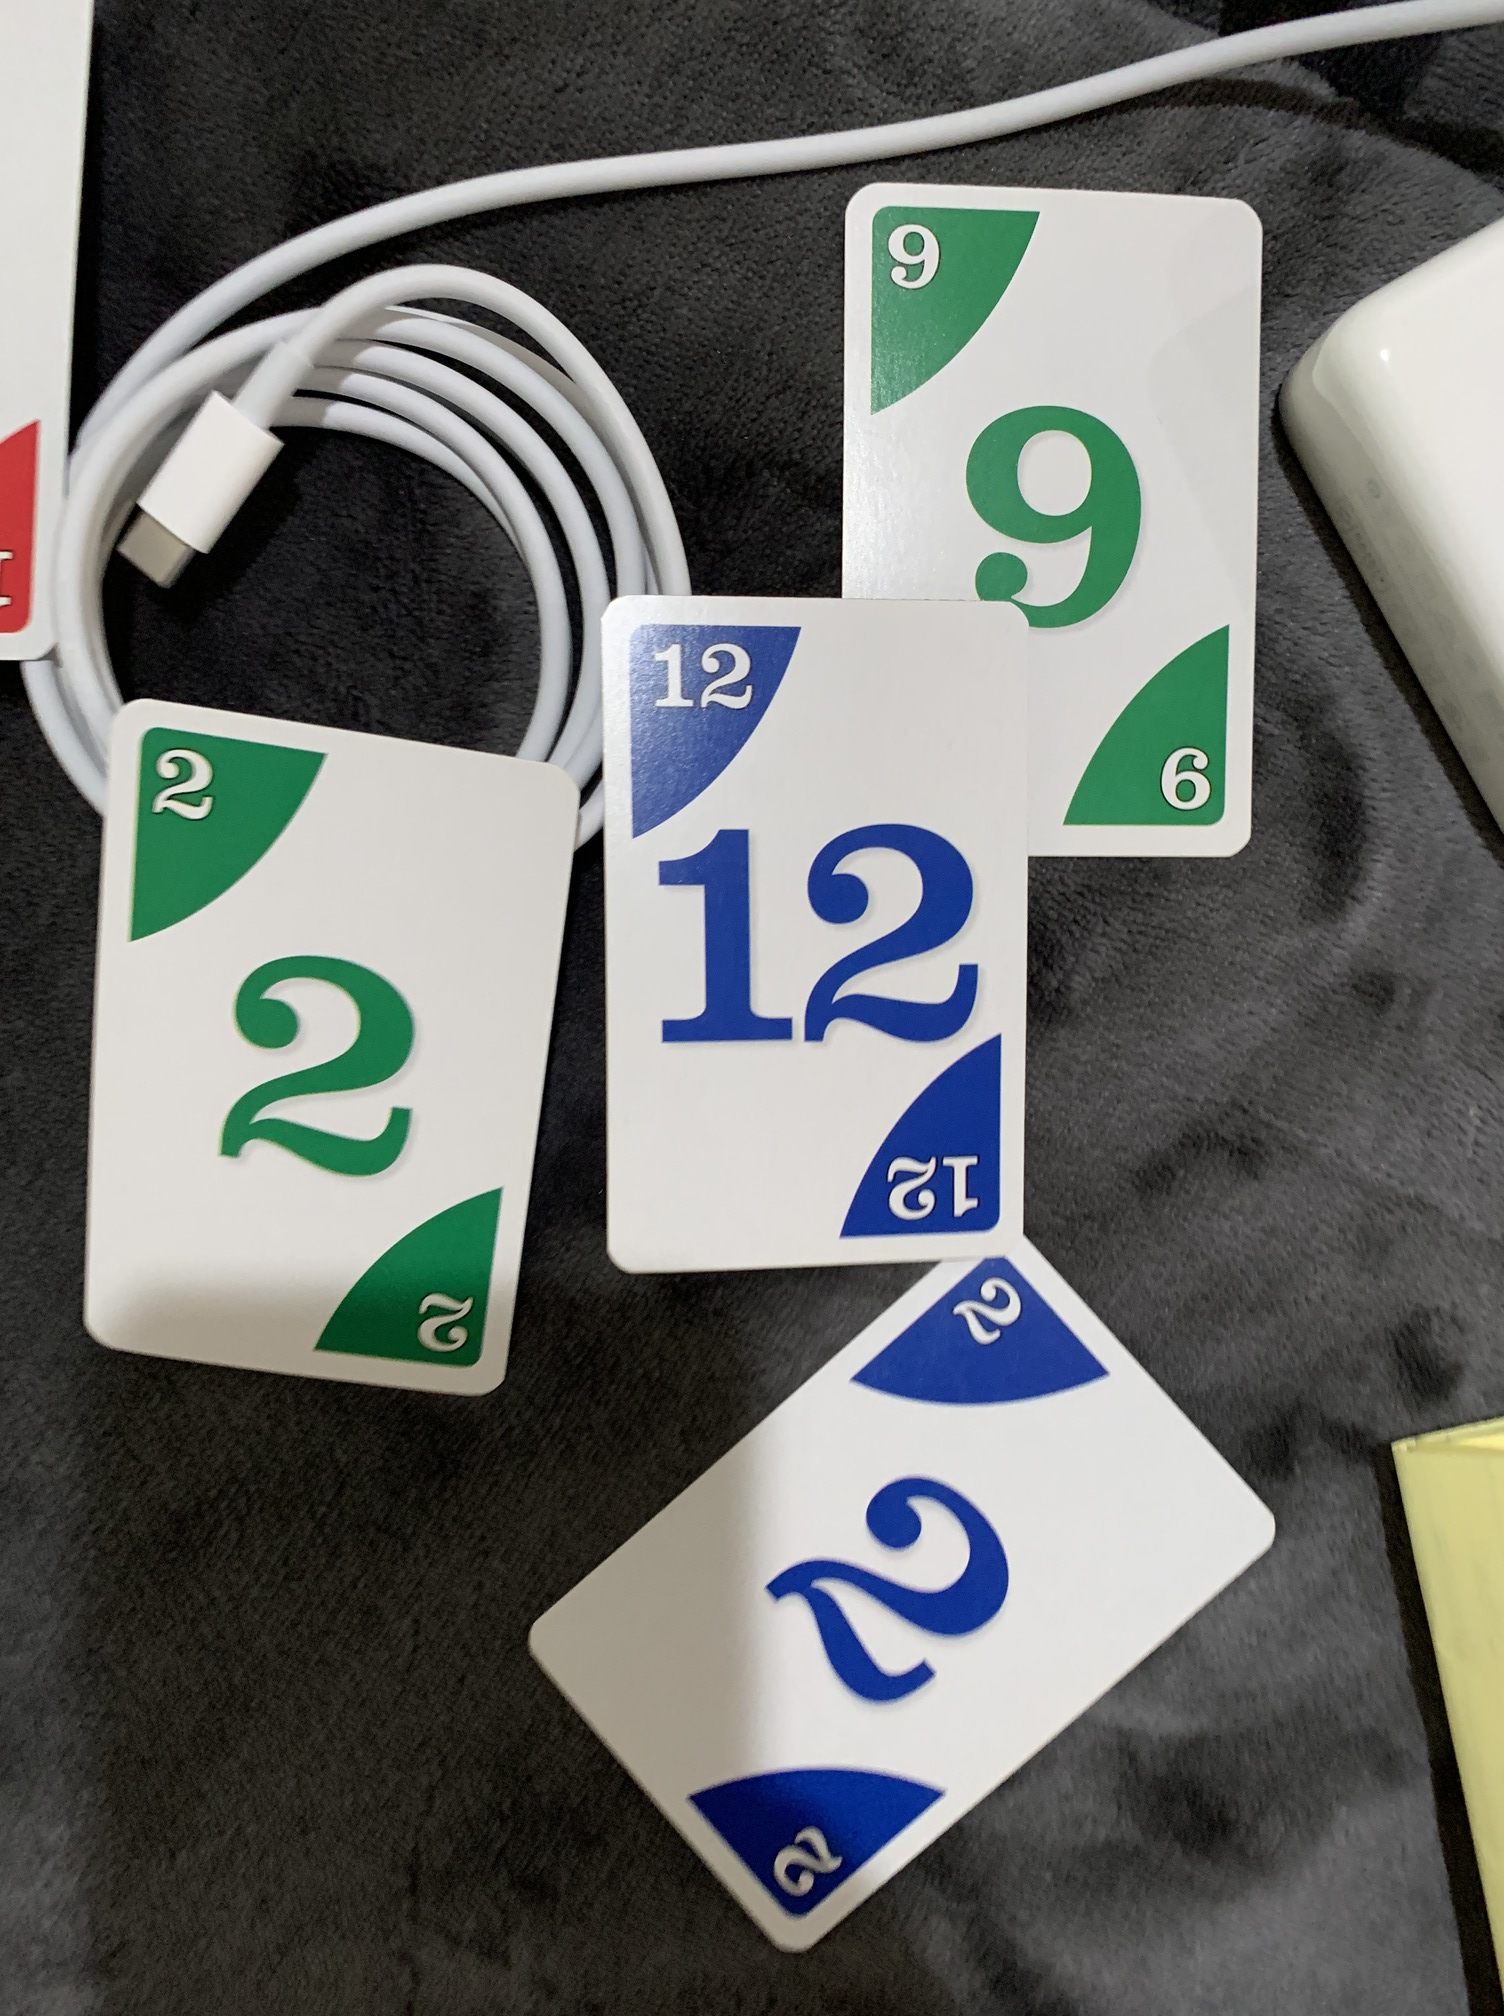nine: (837, 183, 1261, 885)
twelve: (591, 586, 1025, 1280)
two: (506, 1234, 1281, 1961), (65, 690, 578, 1405)
